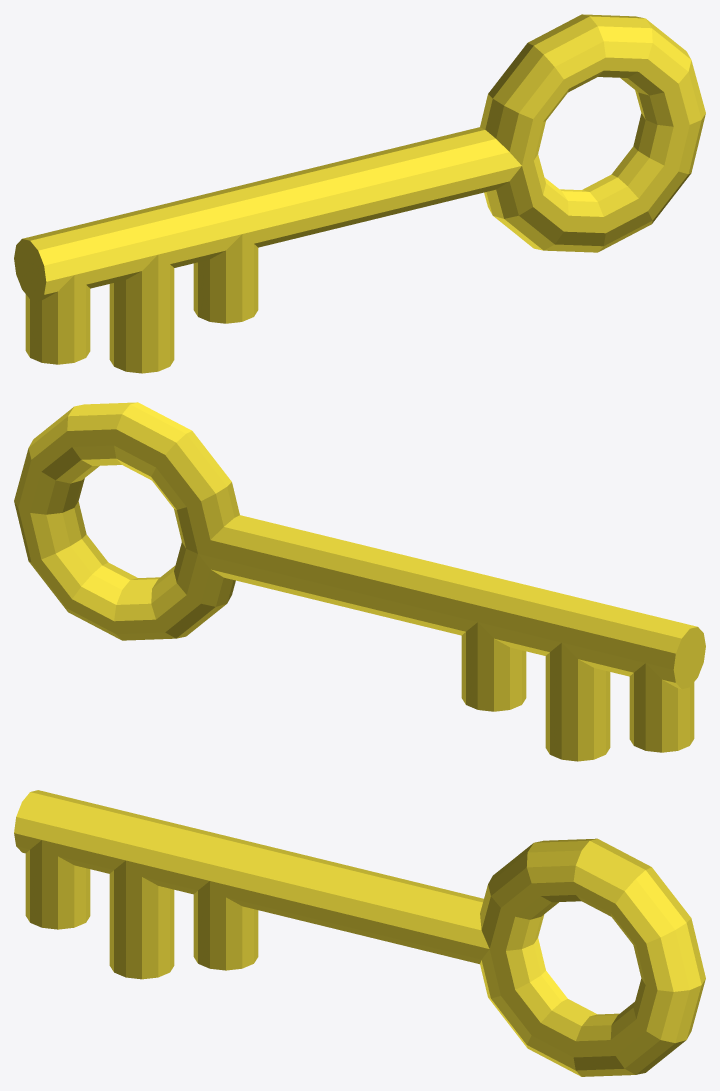
File: key.fbx
The picture shows the model from 3 angles, top to bottom: view 1: azimuth 30°, elevation 25°; view 2: azimuth 150°, elevation 25°; view 3: azimuth 330°, elevation 25°; orthographic projection.
Parts seen in each view (by area): view 1: mesh842668139, mesh889282788, mesh76944799, mesh1681999771, mesh1816315875; view 2: mesh842668139, mesh889282788, mesh76944799, mesh1681999771, mesh1816315875; view 3: mesh842668139, mesh889282788, mesh76944799, mesh1681999771, mesh1816315875.
Part boxes in pixels (x1=…): mesh842668139: x1=480, y1=14, x2=705, y2=252; mesh889282788: x1=14, y1=127, x2=521, y2=301; mesh76944799: x1=109, y1=254, x2=174, y2=373; mesh1681999771: x1=25, y1=275, x2=90, y2=364; mesh1816315875: x1=193, y1=234, x2=258, y2=323; mesh842668139: x1=14, y1=402, x2=239, y2=640; mesh889282788: x1=198, y1=515, x2=705, y2=689; mesh76944799: x1=545, y1=642, x2=610, y2=761; mesh1681999771: x1=629, y1=663, x2=694, y2=752; mesh1816315875: x1=461, y1=622, x2=526, y2=711; mesh842668139: x1=480, y1=838, x2=705, y2=1076; mesh889282788: x1=14, y1=790, x2=489, y2=964; mesh76944799: x1=109, y1=860, x2=174, y2=979; mesh1681999771: x1=25, y1=840, x2=90, y2=929; mesh1816315875: x1=193, y1=881, x2=258, y2=970.
Size of the model in its own units: 0.24 by 0.08 by 0.02.
